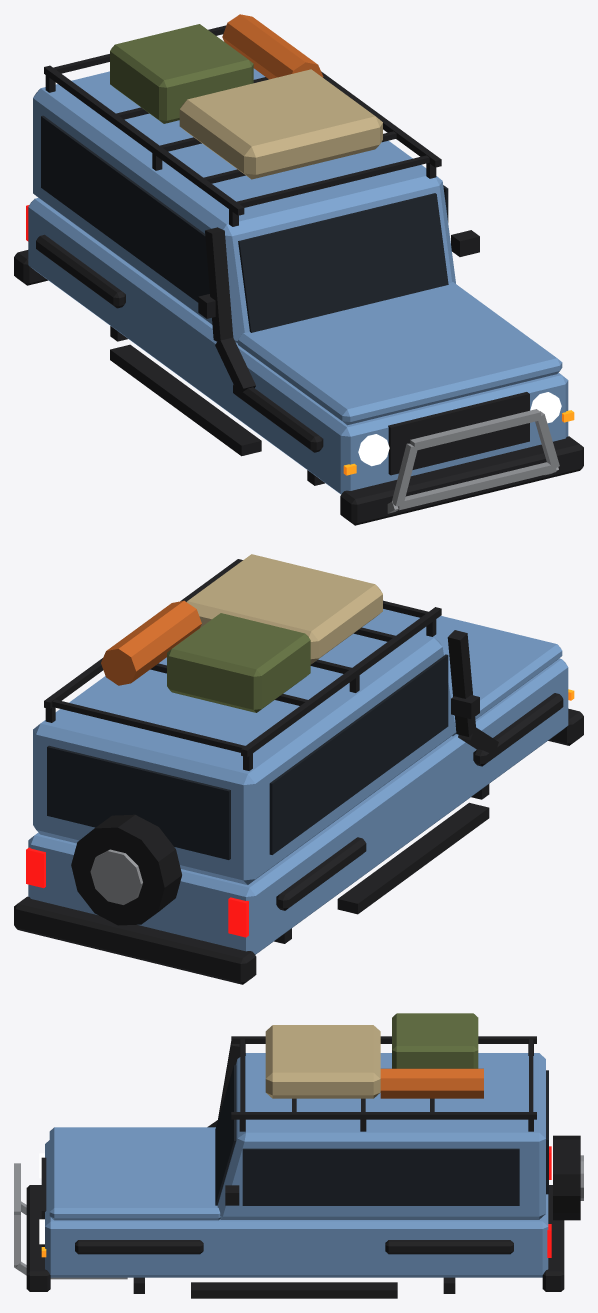
File: offroader.glb
3 views of the same model, one above another, from view 1: azimuth 30°, elevation 25°; view 2: azimuth 150°, elevation 25°; view 3: azimuth 270°, elevation 25° (orthographic). The views are drawn at different scales.
Parts seen in each view (by area): view 1: paint.002, paint.001, paint, glass, cargo_canvas, glass.001, cargo_olive, trim.001, trim, trim.003, cargo_orange, trim.017 (+12 smaller); view 2: paint.002, paint, glass.001, glass.003, cargo_canvas, cargo_olive, trim.002, tyre, paint.001, trim.003, cargo_orange, trim.017 (+11 smaller); view 3: paint, paint.002, glass.002, paint.001, cargo_canvas, cargo_olive, trim.006, cargo_orange, trim.021, tyre, trim.008, trim.007 (+5 smaller).
Boxes of the visible parts, <box> form: paint.002: <box>33,68,455,343</box>; paint.001: <box>238,282,562,425</box>; paint: <box>28,198,568,494</box>; glass: <box>238,193,448,332</box>; cargo_canvas: <box>179,69,382,179</box>; glass.001: <box>41,115,209,302</box>; cargo_olive: <box>110,24,253,123</box>; trim.001: <box>340,436,583,525</box>; trim: <box>388,392,529,475</box>; trim.003: <box>110,344,261,456</box>; cargo_orange: <box>222,14,323,79</box>; trim.017: <box>44,65,244,215</box>; paint.002: <box>33,622,456,884</box>; paint: <box>28,658,568,954</box>; glass.001: <box>269,654,448,854</box>; glass.003: <box>47,745,230,859</box>; cargo_canvas: <box>186,554,382,664</box>; cargo_olive: <box>167,613,310,712</box>; trim.002: <box>14,896,256,984</box>; tyre: <box>71,814,181,925</box>; paint.001: <box>370,609,562,736</box>; trim.003: <box>337,802,489,914</box>; cargo_orange: <box>101,600,201,685</box>; trim.017: <box>241,607,441,757</box>; paint: <box>45,1140,548,1277</box>; paint.002: <box>217,1053,545,1219</box>; glass.002: <box>242,1148,519,1205</box>; paint.001: <box>49,1127,220,1220</box>; cargo_canvas: <box>265,1025,380,1098</box>; cargo_olive: <box>392,1013,478,1068</box>; trim.006: <box>191,1282,397,1298</box>; cargo_orange: <box>380,1068,483,1098</box>; trim.021: <box>231,1112,536,1119</box>; tyre: <box>553,1135,580,1220</box>; trim.008: <box>385,1240,513,1254</box>; trim.007: <box>75,1240,203,1254</box>.
Bounding box in the file's own units: 2.16 × 2.2 × 4.96.
